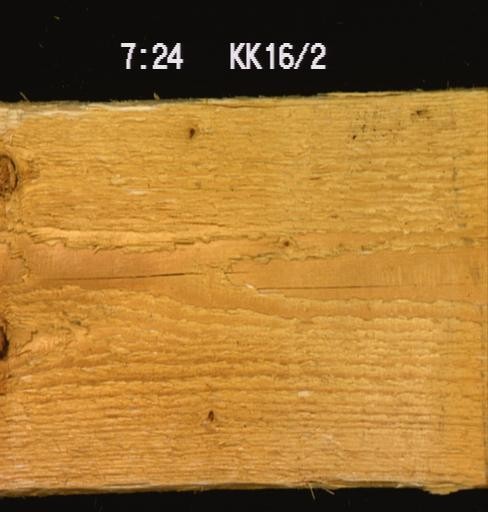small_knot: (203, 402, 215, 424), (184, 125, 201, 138)
split: (0, 264, 254, 293), (243, 273, 487, 295), (203, 96, 401, 121)
wave: (304, 465, 465, 502), (0, 99, 167, 121)
